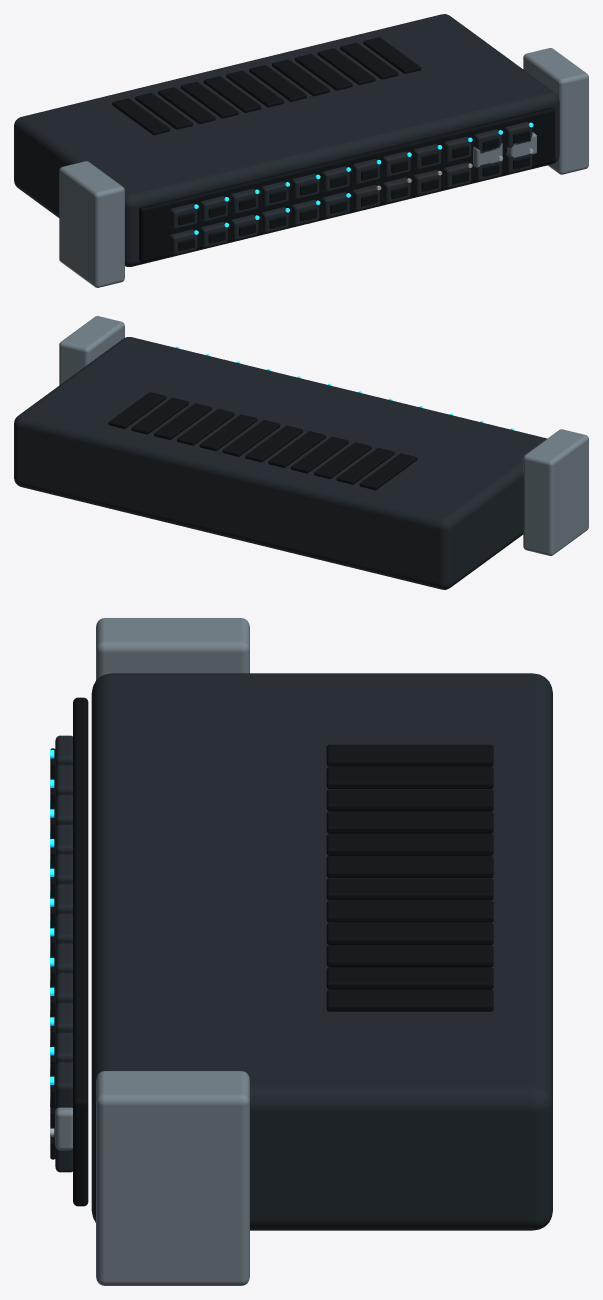
Rendered from network-switch.glb.
3 renders of one model, top to bottom at view 1: azimuth 30°, elevation 25°; view 2: azimuth 150°, elevation 25°; view 3: azimuth 270°, elevation 25°, orthographic. The views are drawn at different scales.
Visible parts, largest first — view 1: Managed switch chassis, Rack mounting ear (×2), Cooling vent (×12), Switch front panel, Premium managed 24-port network switch, SFP uplink port (×2), Gigabit Ethernet port 13, Gigabit Ethernet port 22, Gigabit Ethernet port 20, Gigabit Ethernet port 1, Gigabit Ethernet port 8, Gigabit Ethernet port 10 (+16 smaller); view 2: Managed switch chassis, Cooling vent (×12), Rack mounting ear (×2); view 3: Managed switch chassis, Cooling vent (×12), Rack mounting ear (×2), Switch front panel, Premium managed 24-port network switch.
Boxes of the visible parts, <box> form: Managed switch chassis: <box>14,14,559,266</box>; Rack mounting ear (×2): <box>59,48,588,287</box>; Cooling vent (×12): <box>112,37,421,135</box>; Switch front panel: <box>139,107,555,262</box>; Premium managed 24-port network switch: <box>178,122,533,250</box>; SFP uplink port (×2): <box>473,132,536,167</box>; Gigabit Ethernet port 13: <box>169,229,197,255</box>; Gigabit Ethernet port 22: <box>443,162,471,188</box>; Gigabit Ethernet port 20: <box>382,177,410,203</box>; Gigabit Ethernet port 1: <box>169,203,197,229</box>; Gigabit Ethernet port 8: <box>382,151,410,177</box>; Gigabit Ethernet port 10: <box>443,136,471,162</box>; Managed switch chassis: <box>14,337,547,589</box>; Cooling vent (×12): <box>108,392,417,490</box>; Rack mounting ear (×2): <box>59,316,588,555</box>; Managed switch chassis: <box>91,673,552,1230</box>; Cooling vent (×12): <box>326,744,493,1011</box>; Rack mounting ear (×2): <box>96,618,249,1285</box>; Switch front panel: <box>73,697,88,1206</box>; Premium managed 24-port network switch: <box>50,748,55,1159</box>.
Bounding box in the file's own units: 2.6 × 0.48 × 1.14.
